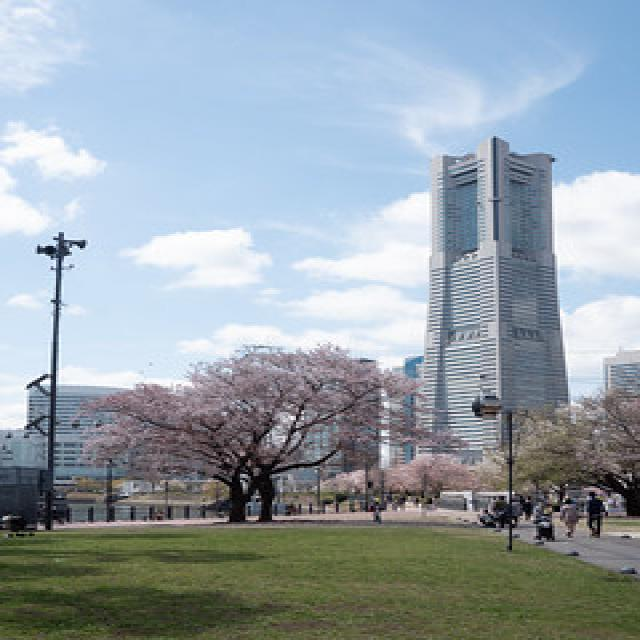Normal_building: (402, 131, 586, 513)
